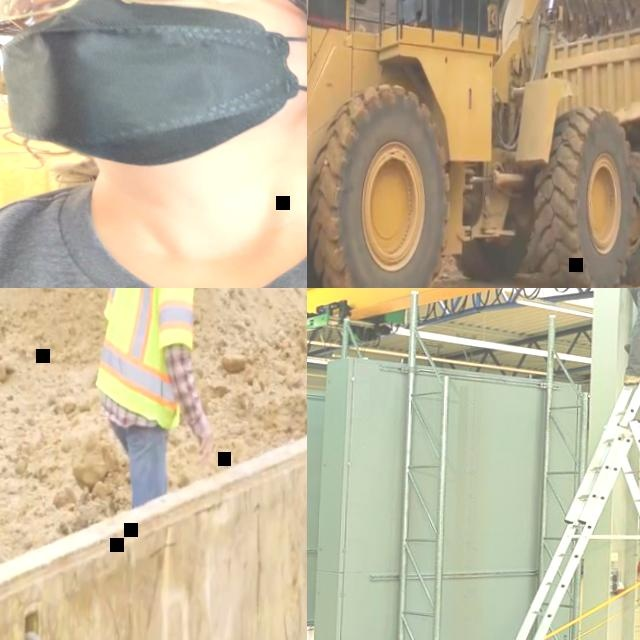Mask: (0, 0, 307, 169)
NO-Safety Vest: (0, 176, 307, 288)
Person: (0, 0, 307, 288), (92, 288, 224, 503)
Safety Vest: (96, 288, 201, 430)
machinery: (307, 0, 640, 288), (536, 8, 640, 288)
